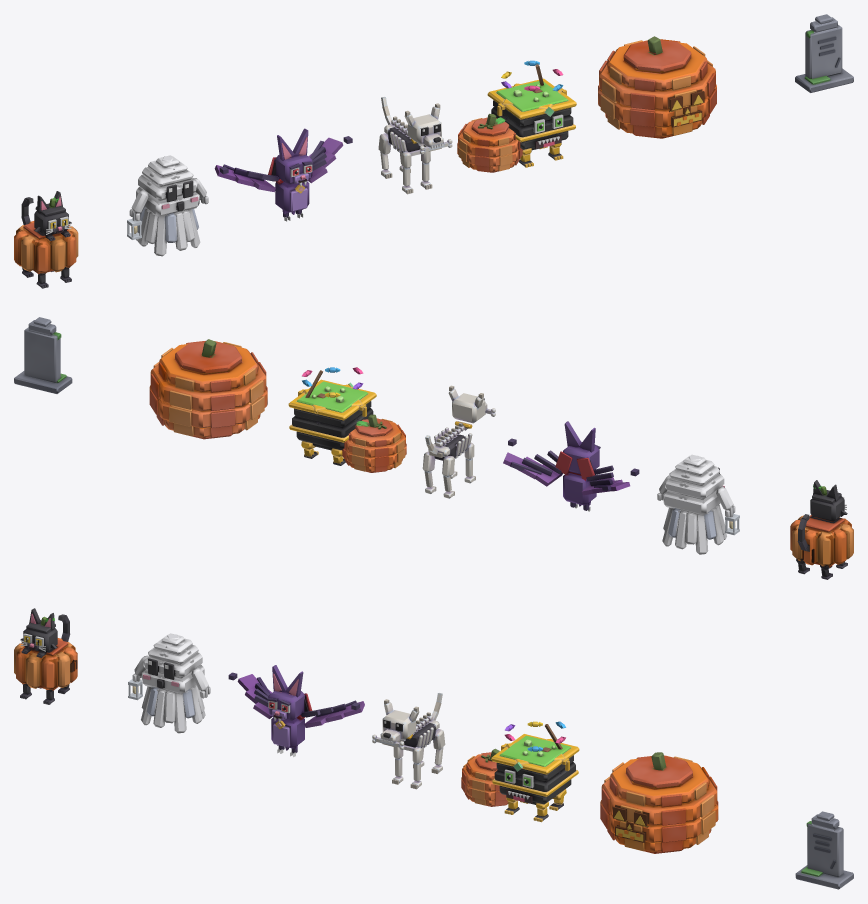
File: Lot11_Halloween.fbx
3 renders of one model, top to bottom at view 1: azimuth 30°, elevation 25°; view 2: azimuth 150°, elevation 25°; view 3: azimuth 330°, elevation 25°, orthographic.
Parts seen in each view (by area): view 1: Objets_Halloween__Lanterne, FantomeDrap__Body, ChaudronGlouton__Body, Objets_Halloween__Citrouille, Objets_Halloween__Tombe, ChatCitrouille__Body, ChauveSourisVampire__Head, ChienSquelette__Head, ChauveSourisVampire__Body, ChatCitrouille__Head, ChauveSourisVampire__WingR, ChauveSourisVampire__WingL (+1 smaller); view 2: Objets_Halloween__Lanterne, FantomeDrap__Body, ChaudronGlouton__Body, Objets_Halloween__Citrouille, Objets_Halloween__Tombe, ChatCitrouille__Body, ChauveSourisVampire__Body, ChauveSourisVampire__WingL, ChauveSourisVampire__Head, ChatCitrouille__Head, ChienSquelette__Body, ChienSquelette__Head (+1 smaller); view 3: Objets_Halloween__Lanterne, FantomeDrap__Body, ChaudronGlouton__Body, Objets_Halloween__Tombe, ChatCitrouille__Body, Objets_Halloween__Citrouille, ChauveSourisVampire__Head, ChienSquelette__Head, ChauveSourisVampire__Body, ChatCitrouille__Head, ChauveSourisVampire__WingL, ChauveSourisVampire__WingR (+1 smaller).
Boxes of the visible parts, bbox=[...] form: Objets_Halloween__Lanterne: bbox=[598, 36, 716, 138]; FantomeDrap__Body: bbox=[136, 155, 200, 256]; ChaudronGlouton__Body: bbox=[487, 78, 576, 150]; Objets_Halloween__Citrouille: bbox=[457, 113, 522, 172]; Objets_Halloween__Tombe: bbox=[795, 14, 853, 92]; ChatCitrouille__Body: bbox=[14, 221, 78, 274]; ChauveSourisVampire__Head: bbox=[275, 128, 313, 185]; ChienSquelette__Head: bbox=[404, 103, 452, 154]; ChauveSourisVampire__Body: bbox=[268, 157, 309, 221]; ChatCitrouille__Head: bbox=[34, 191, 71, 235]; ChauveSourisVampire__WingR: bbox=[214, 164, 279, 192]; ChauveSourisVampire__WingL: bbox=[308, 136, 352, 183]; Objets_Halloween__Lanterne: bbox=[149, 339, 267, 439]; FantomeDrap__Body: bbox=[662, 454, 726, 554]; ChaudronGlouton__Body: bbox=[288, 379, 376, 450]; Objets_Halloween__Citrouille: bbox=[342, 414, 406, 472]; Objets_Halloween__Tombe: bbox=[14, 317, 72, 393]; ChatCitrouille__Body: bbox=[790, 511, 853, 566]; ChauveSourisVampire__Body: bbox=[555, 451, 596, 511]; ChauveSourisVampire__WingL: bbox=[503, 438, 562, 486]; ChauveSourisVampire__Head: bbox=[563, 421, 600, 474]; ChatCitrouille__Head: bbox=[810, 480, 847, 521]; ChienSquelette__Body: bbox=[428, 421, 472, 460]; ChienSquelette__Head: bbox=[448, 385, 495, 423]; Objets_Halloween__Lanterne: bbox=[600, 752, 718, 853]; FantomeDrap__Body: bbox=[141, 633, 205, 733]; ChaudronGlouton__Body: bbox=[491, 734, 579, 804]; Objets_Halloween__Tombe: bbox=[795, 811, 853, 889]; ChatCitrouille__Body: bbox=[14, 638, 77, 690]; Objets_Halloween__Citrouille: bbox=[461, 748, 508, 806]; ChauveSourisVampire__Head: bbox=[267, 665, 304, 721]; ChienSquelette__Head: bbox=[372, 699, 419, 749]; ChauveSourisVampire__Body: bbox=[271, 693, 312, 756]; ChatCitrouille__Head: bbox=[20, 608, 57, 652]; ChauveSourisVampire__WingL: bbox=[300, 700, 364, 727]; ChauveSourisVampire__WingR: bbox=[228, 672, 272, 718].
Size of the model in its own units: 61.22 by 6 by 7.63.
Materials: 6 (6 with a texture image).
